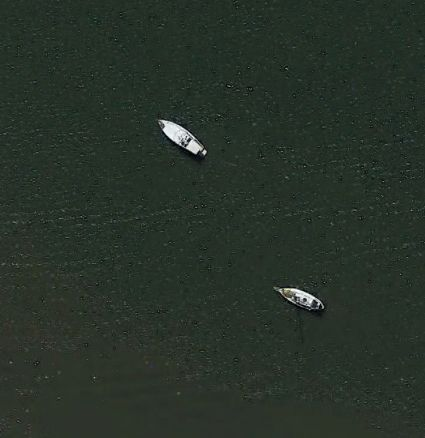boat: (156, 116, 208, 162), (275, 287, 326, 313)
